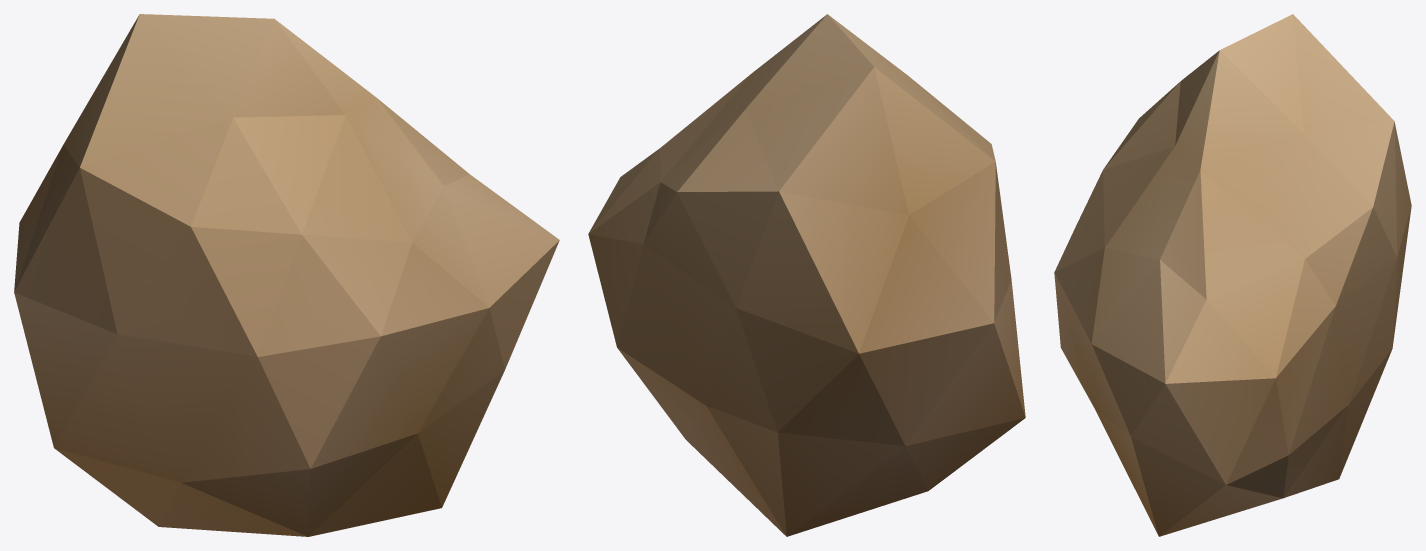
Rendered from world_sandstone_a.fbx.
The picture shows the model from 3 angles, left to right: view 1: azimuth 30°, elevation 25°; view 2: azimuth 150°, elevation 25°; view 3: azimuth 270°, elevation 25°; orthographic projection. The views are drawn at different scales.
Visible parts, largest first — view 1: world_sandstone_a; view 2: world_sandstone_a; view 3: world_sandstone_a.
Boxes of the visible parts, x1=… form: world_sandstone_a: x1=14, y1=14, x2=559, y2=536; world_sandstone_a: x1=588, y1=14, x2=1025, y2=536; world_sandstone_a: x1=1054, y1=14, x2=1411, y2=536.
Size of the model in its own units: 356 by 363 by 268.
